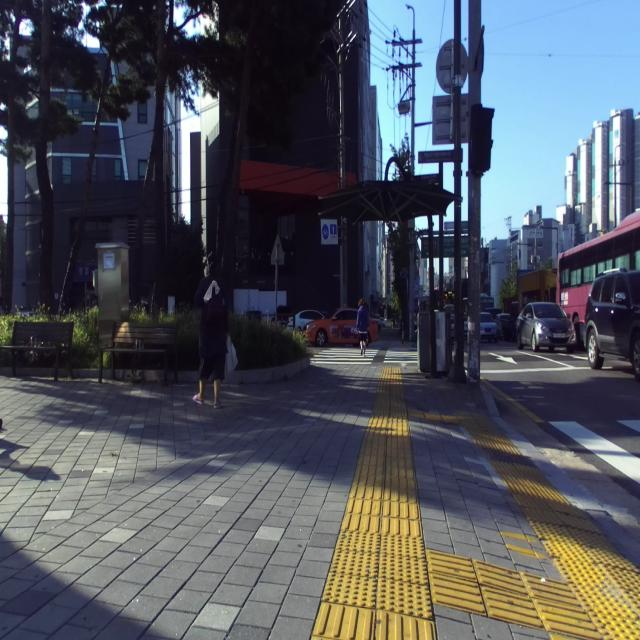횡단보도: (310, 348, 417, 366)
